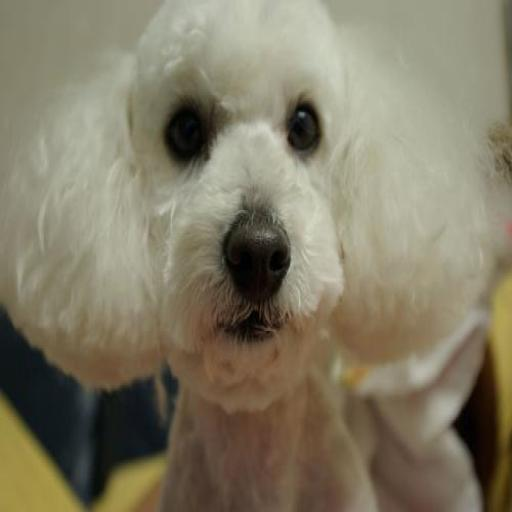dog_face: (14, 11, 476, 380)
